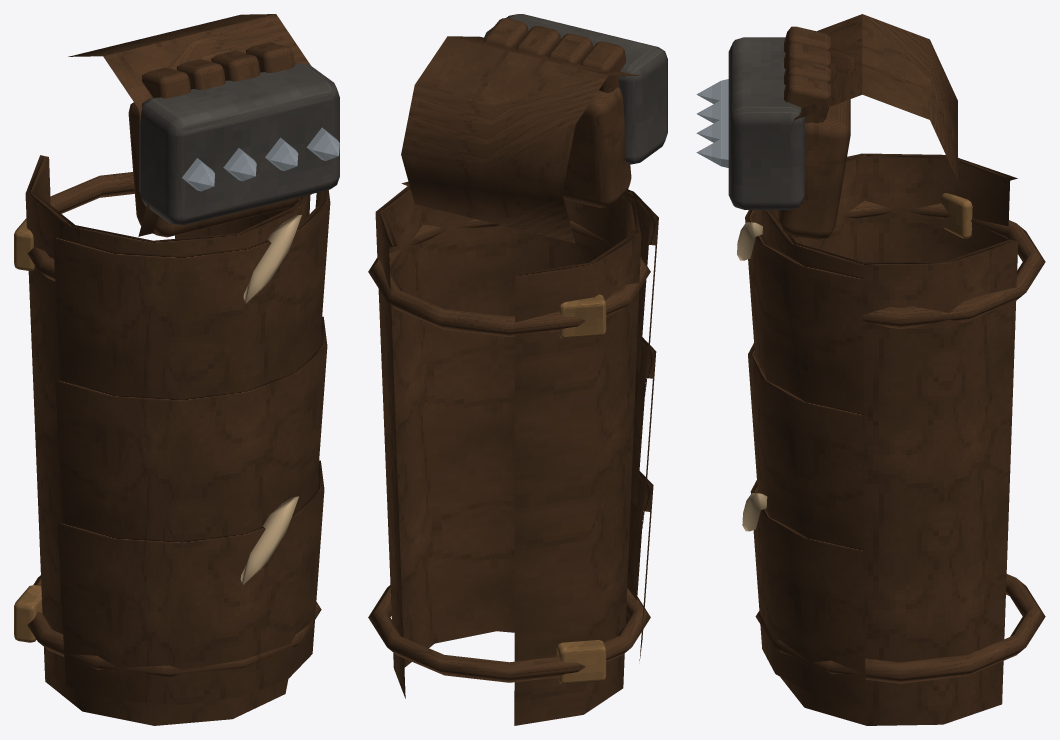
The model's file is cestus.lod2.glb.
3 renders of one model, left to right at view 1: azimuth 30°, elevation 25°; view 2: azimuth 150°, elevation 25°; view 3: azimuth 270°, elevation 25°, orthographic. The views are drawn at different scales.
Visible parts, largest first — view 1: leather / oiled leather wrap, iron / hammer-scaled wrought iron, thread loop, steel / forged blade steel, bronze / cast bronze with patina; view 2: leather / oiled leather wrap, iron / hammer-scaled wrought iron, bronze / cast bronze with patina; view 3: leather / oiled leather wrap, iron / hammer-scaled wrought iron, steel / forged blade steel, thread loop, bronze / cast bronze with patina.
Boxes of the visible parts, left/top/right/bottom form: leather / oiled leather wrap: left=25, top=14, right=330, bottom=725; iron / hammer-scaled wrought iron: left=139, top=63, right=339, bottom=225; thread loop: left=240, top=214, right=301, bottom=584; steel / forged blade steel: left=182, top=127, right=339, bottom=191; bronze / cast bronze with patina: left=14, top=218, right=42, bottom=642; leather / oiled leather wrap: left=368, top=18, right=658, bottom=725; iron / hammer-scaled wrought iron: left=484, top=14, right=667, bottom=164; bronze / cast bronze with patina: left=556, top=294, right=606, bottom=684; leather / oiled leather wrap: left=745, top=14, right=1045, bottom=725; iron / hammer-scaled wrought iron: left=728, top=37, right=804, bottom=209; steel / forged blade steel: left=696, top=79, right=728, bottom=167; thread loop: left=737, top=222, right=767, bottom=531; bronze / cast bronze with patina: left=941, top=193, right=972, bottom=238.
Size of the model in its own units: 0.1579 by 0.36 by 0.183.
Materials: 5 (4 with a texture image).
